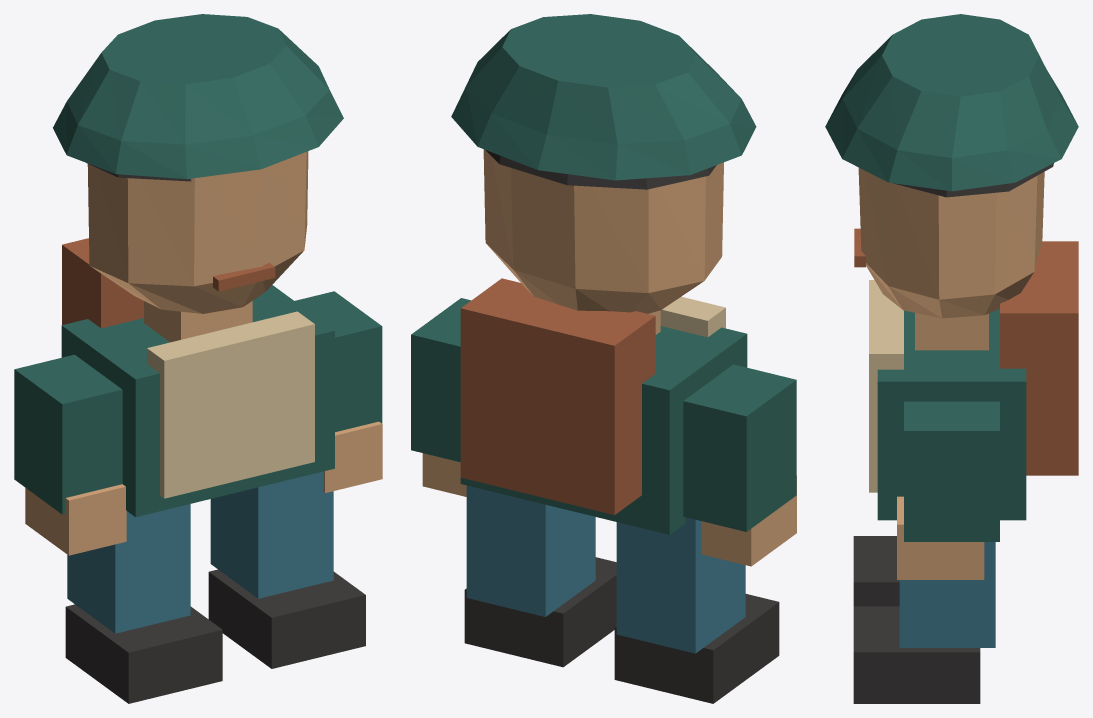
The model's file is sum-collei-guest-model.obj.
3 renders of one model, left to right at view 1: azimuth 30°, elevation 25°; view 2: azimuth 150°, elevation 25°; view 3: azimuth 270°, elevation 25°, orthographic. The views are drawn at different scales.
Visible parts, largest first — view 1: Rainforest beginner visitor; view 2: Rainforest beginner visitor; view 3: Rainforest beginner visitor.
Boxes of the visible parts, bbox=[...] form: Rainforest beginner visitor: bbox=[14, 14, 382, 703]; Rainforest beginner visitor: bbox=[411, 14, 796, 703]; Rainforest beginner visitor: bbox=[825, 14, 1078, 703].
Size of the model in its own units: 0.85 by 1.49 by 0.58.
